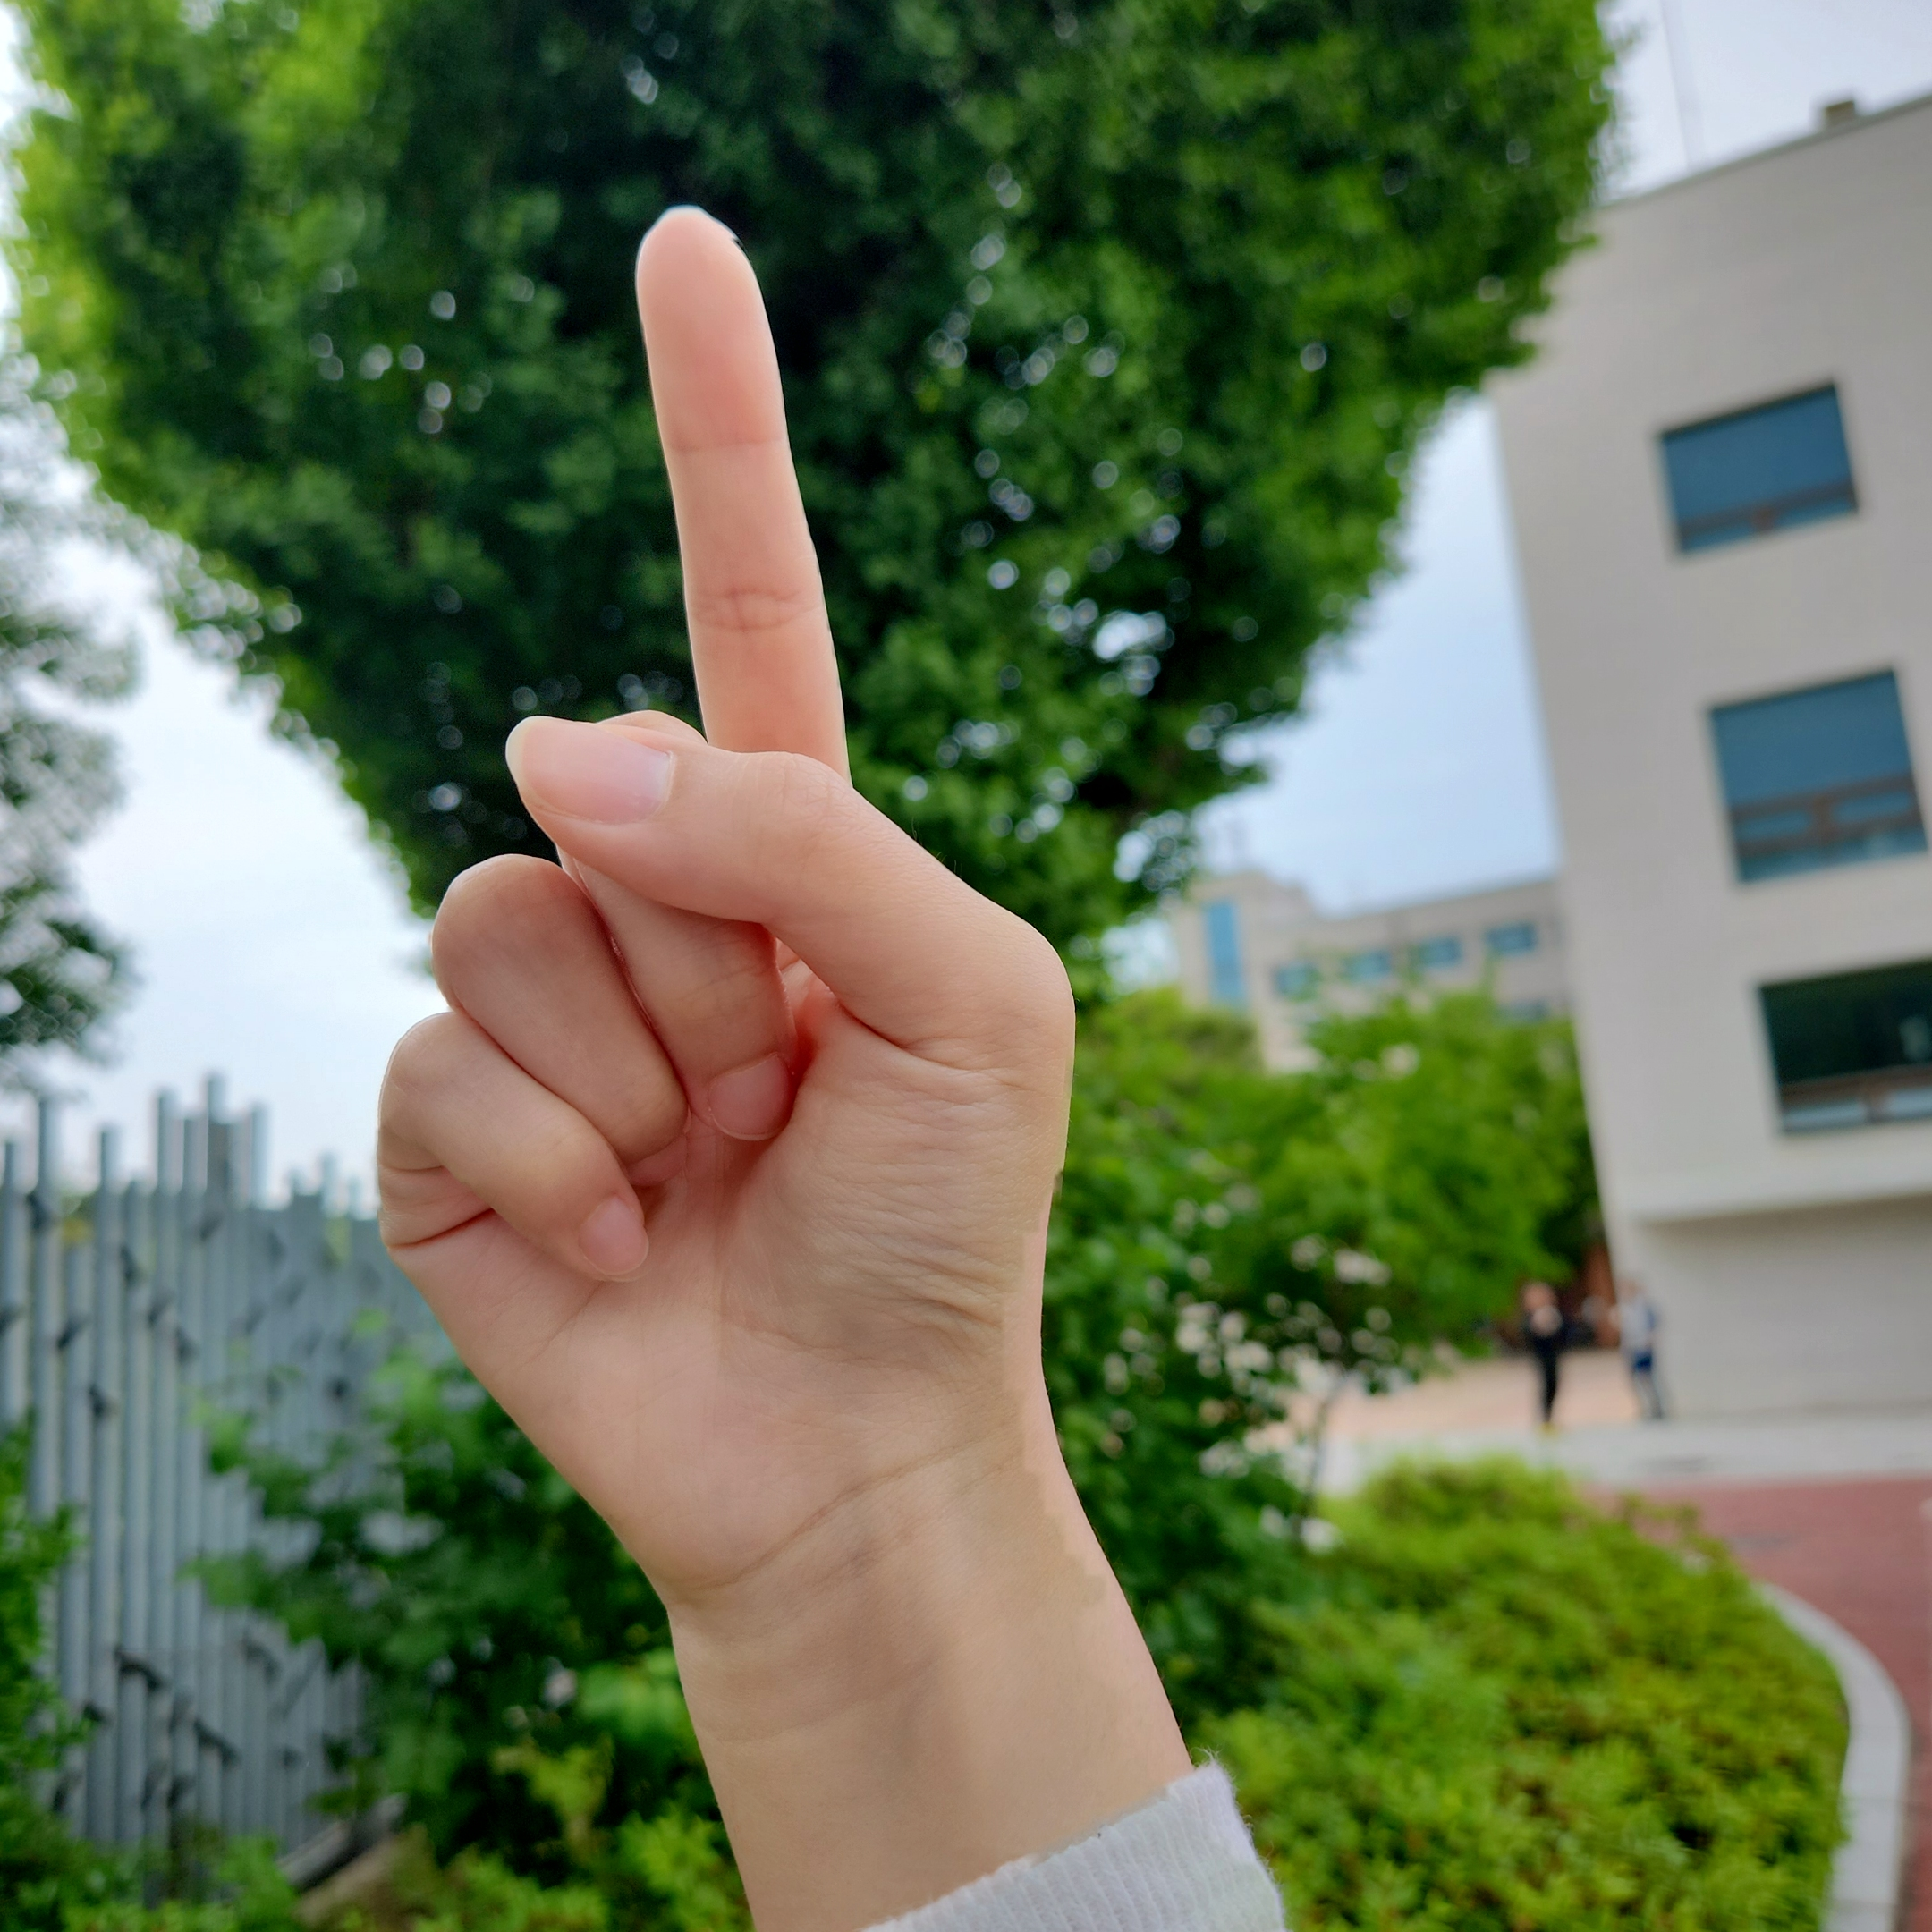what: (379, 200, 1083, 1605)
